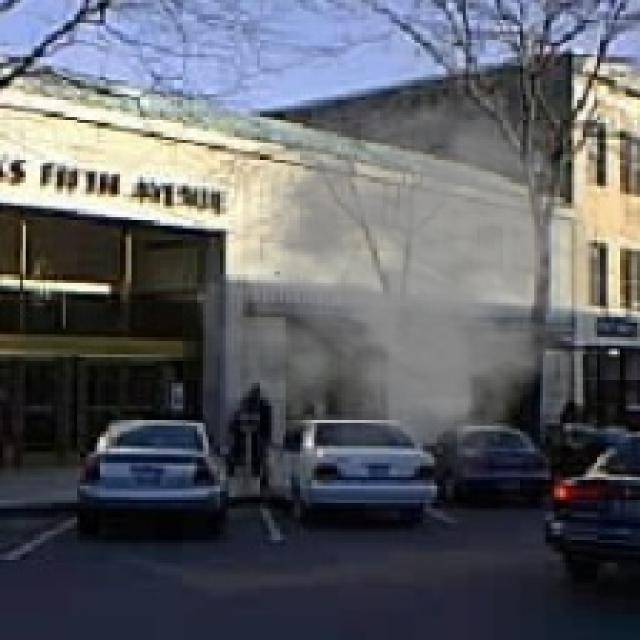Smoke: (192, 86, 612, 483)
